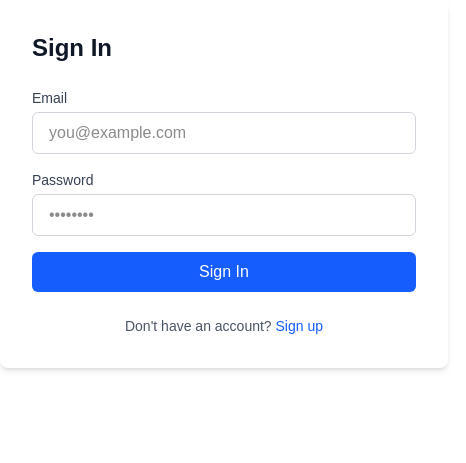
Test case: LoginForm › Error Handling › should display error on login failure
Type "test@example.com" into the field with placeholder "you@example.com" at [224, 133], box [32,112,416,154]
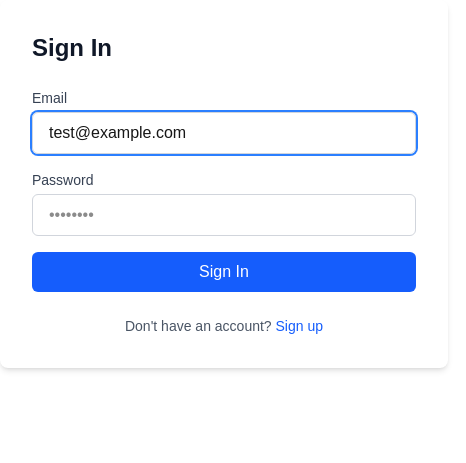
Type "Password123" into the password field with placeholder "••••••••" at [224, 215], box [32,194,416,236]
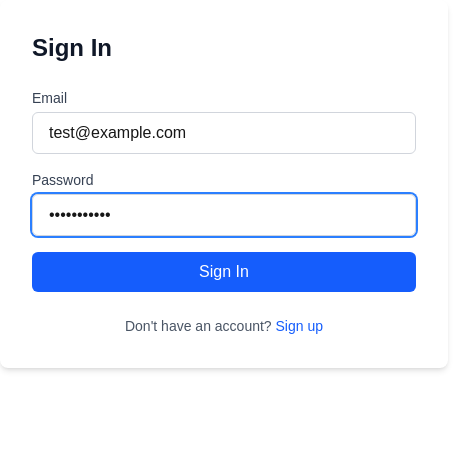
Click the button "Sign In" at [224, 272], box [32,252,416,292]
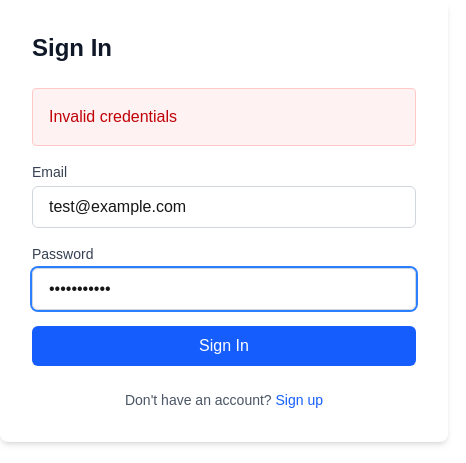
Result: the text "Invalid credentials" is shown at [32,88,416,146]
